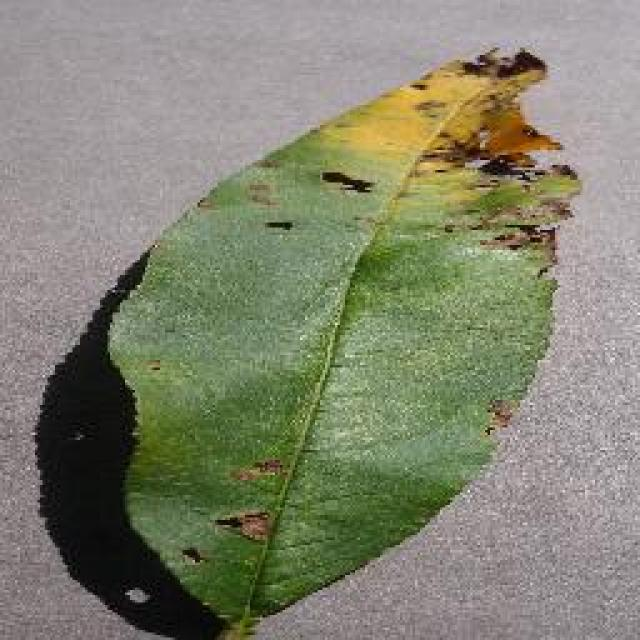Peach_Bacterial_Spot: (268, 80, 577, 345)
